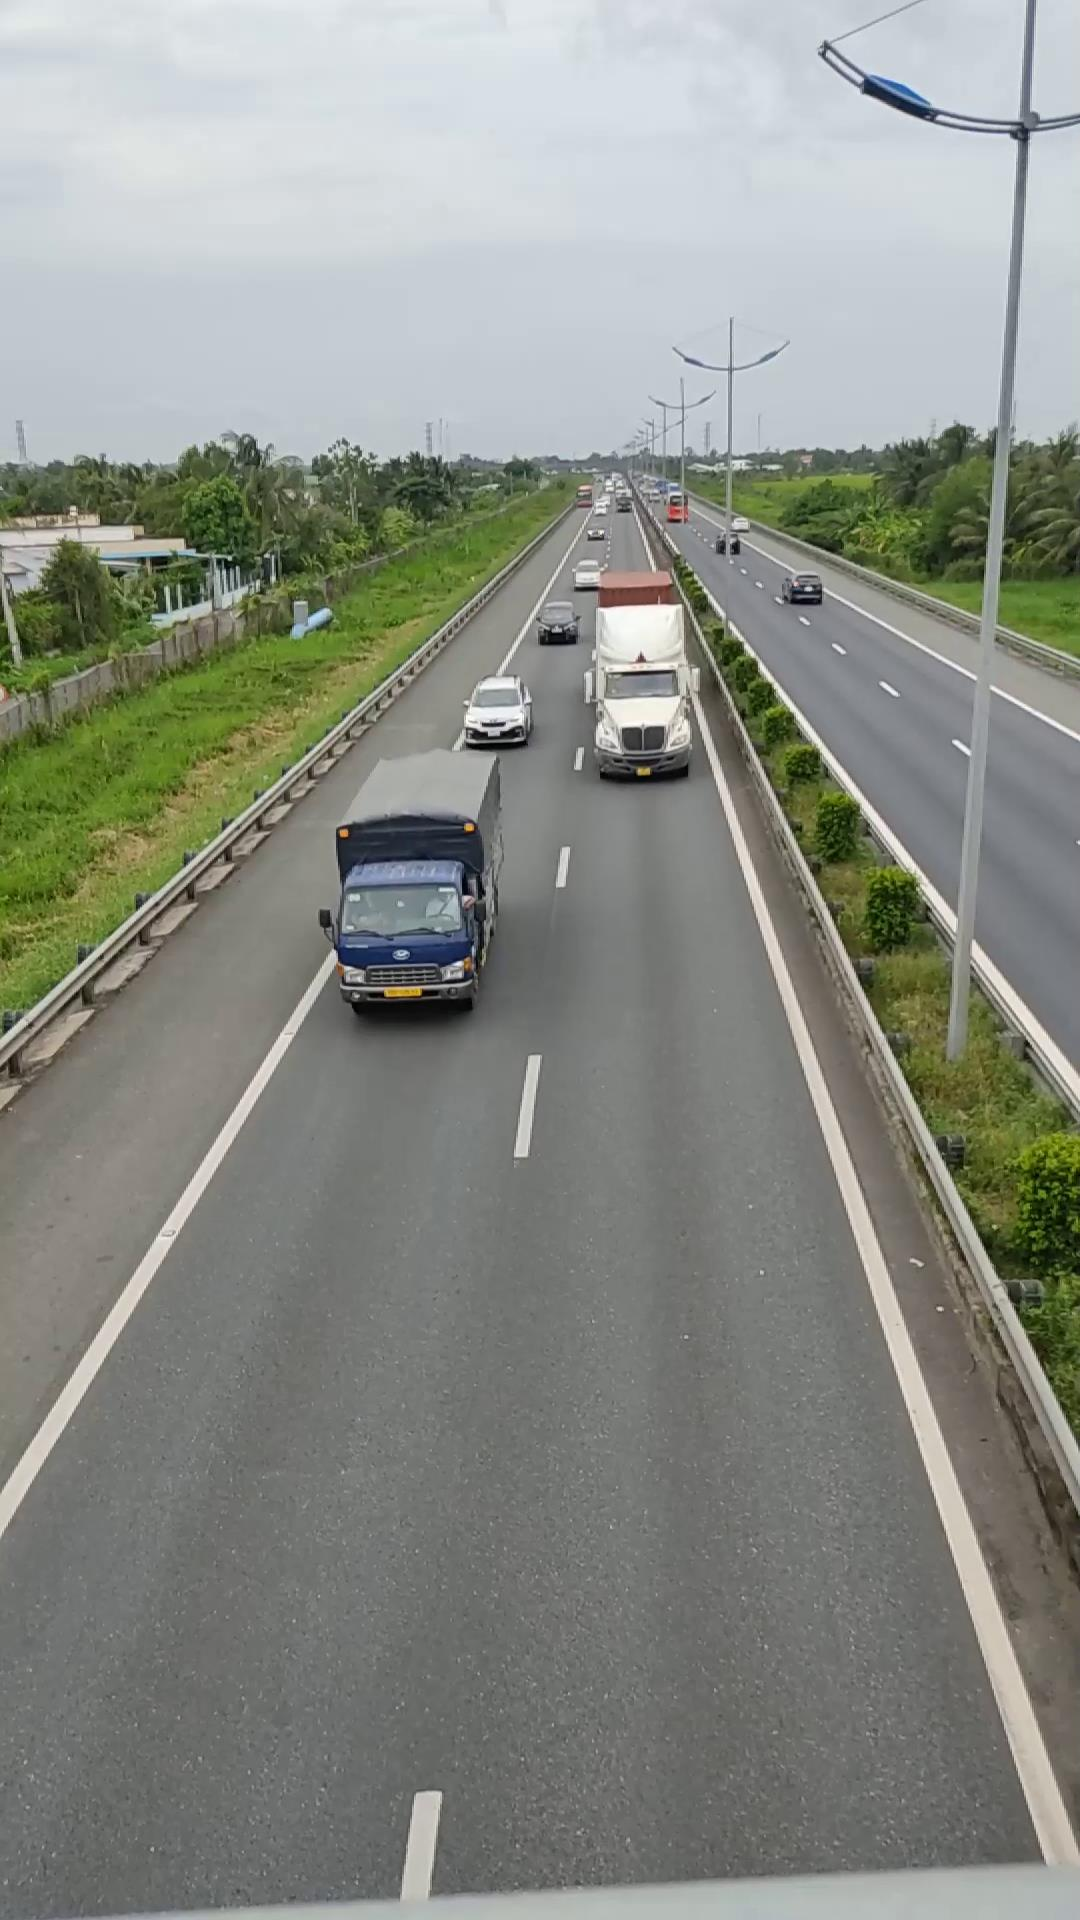car: (462, 674, 535, 746)
container: (583, 564, 696, 781)
truck: (324, 746, 506, 1011)
